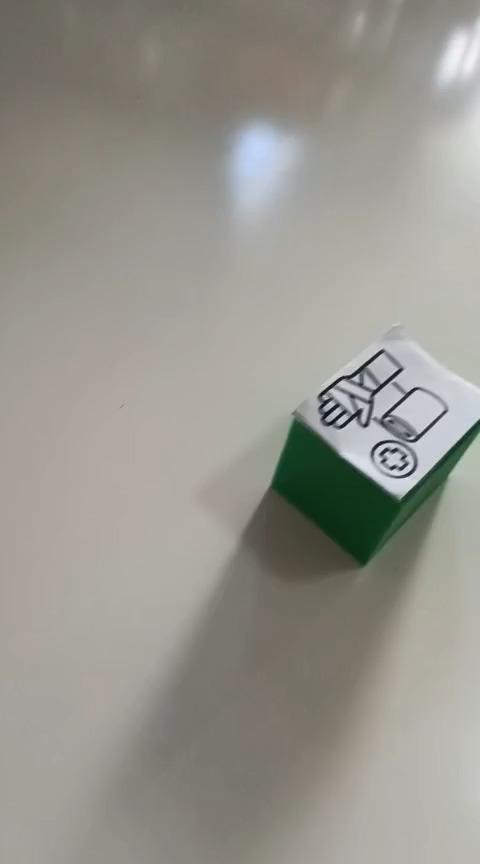Bandages: (269, 321, 479, 567)
